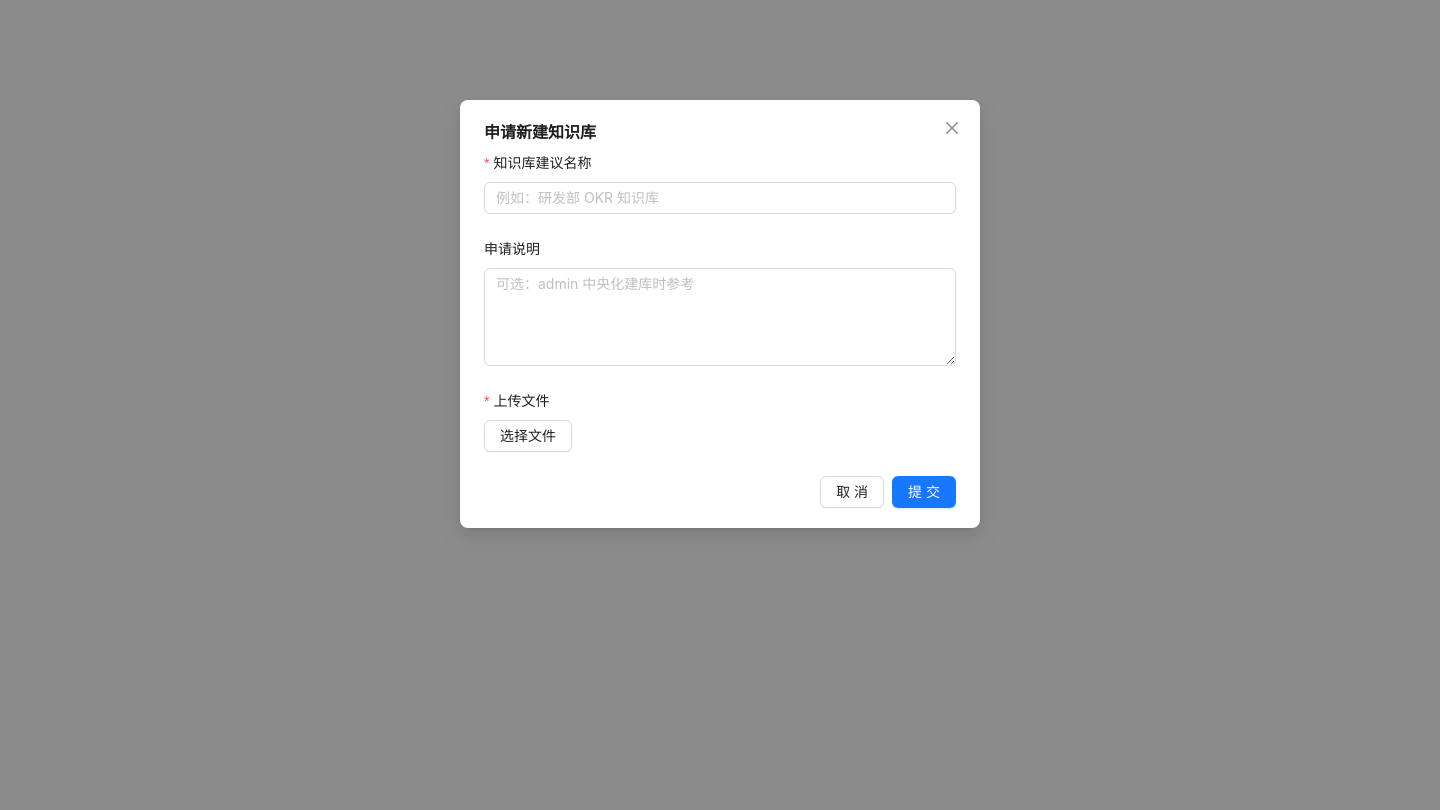
it: <KbApplicationModal> › AC#2(no-files) — required name but empty file list → file error, no submit
Type "x" into the field with placeholder "例如：研发部 OKR 知识库" at (720,198), box [484, 182, 956, 214]
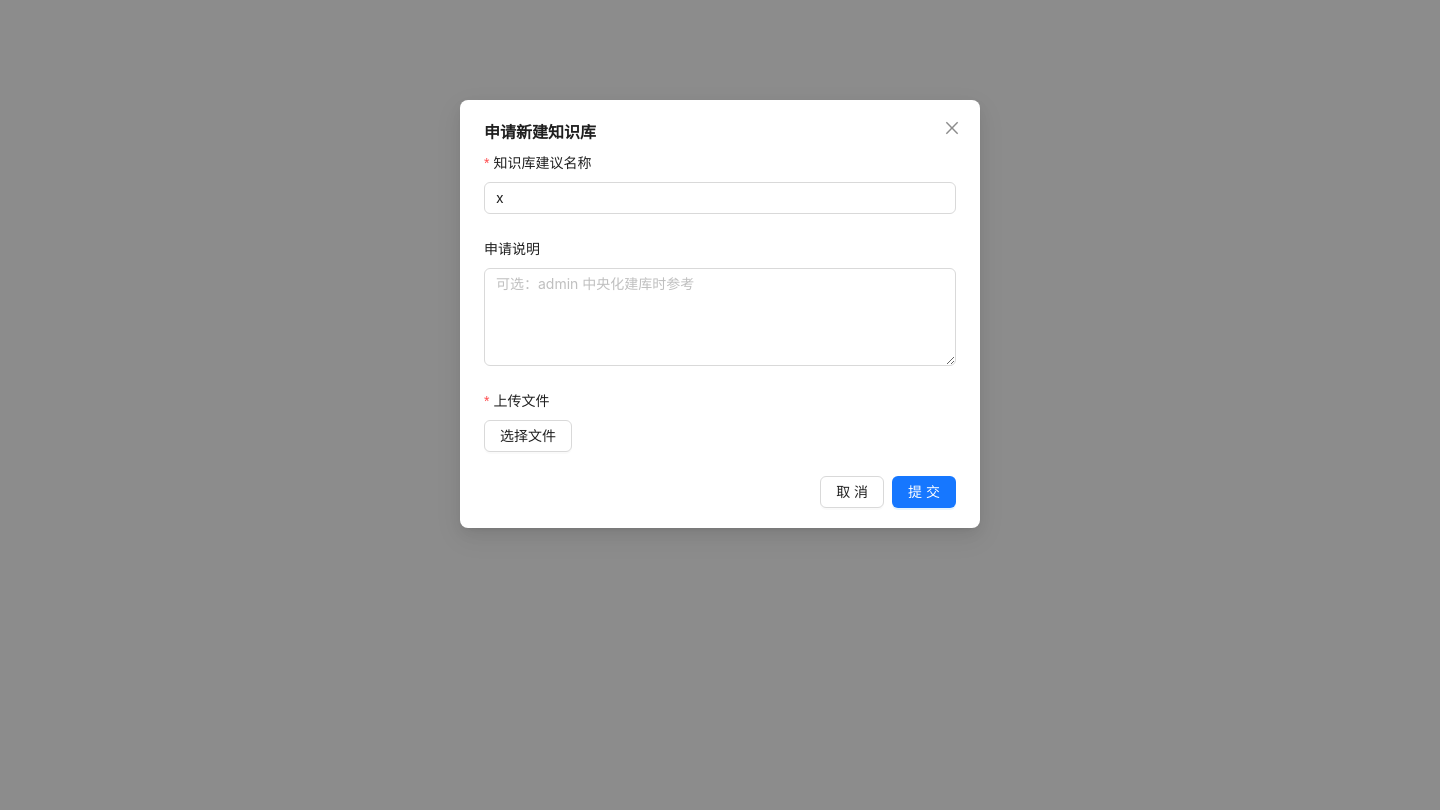
Click the button "提 交" at (924,492), box [892, 476, 956, 508]
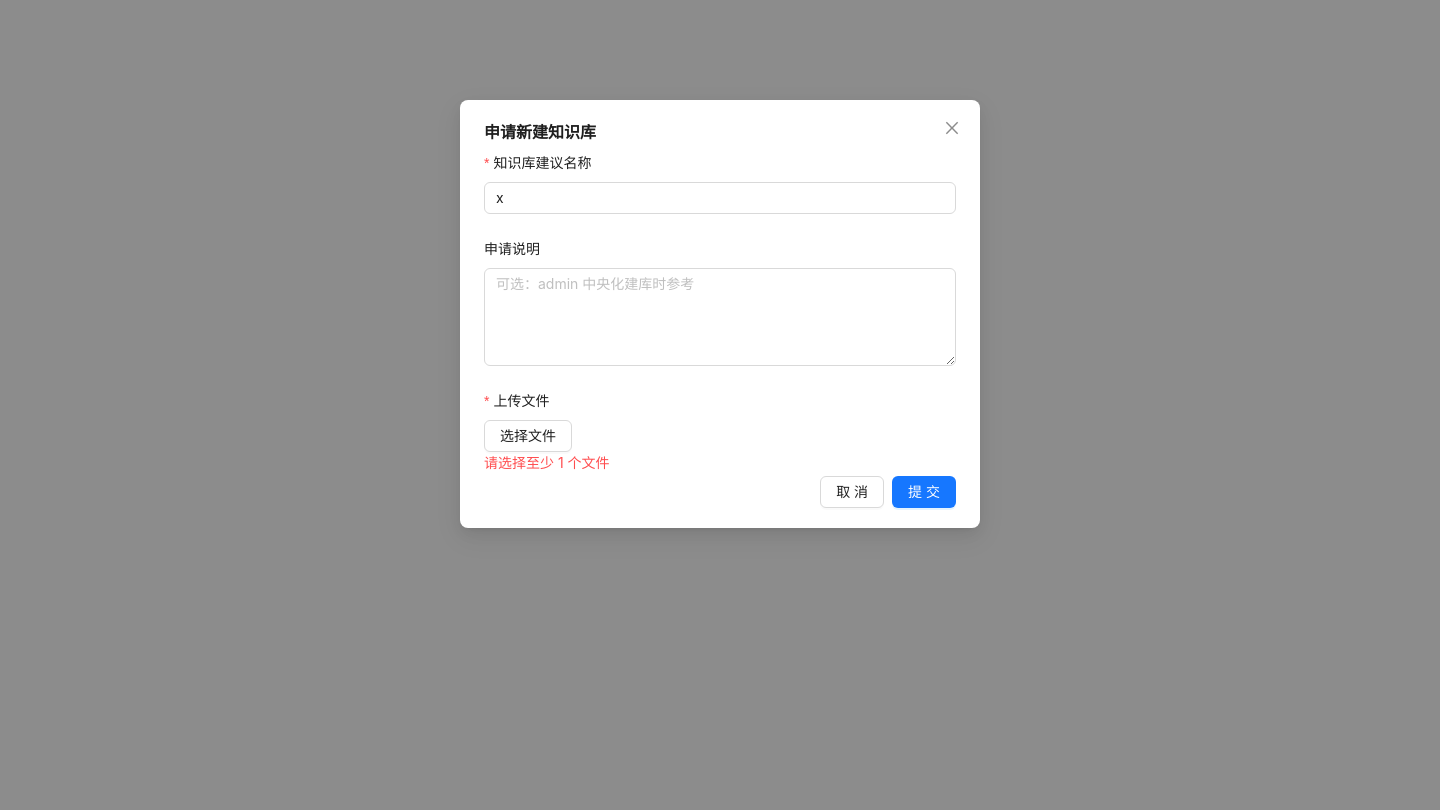
Expected: the text "请选择至少 1 个文件" is shown, [484, 454, 610, 471]
